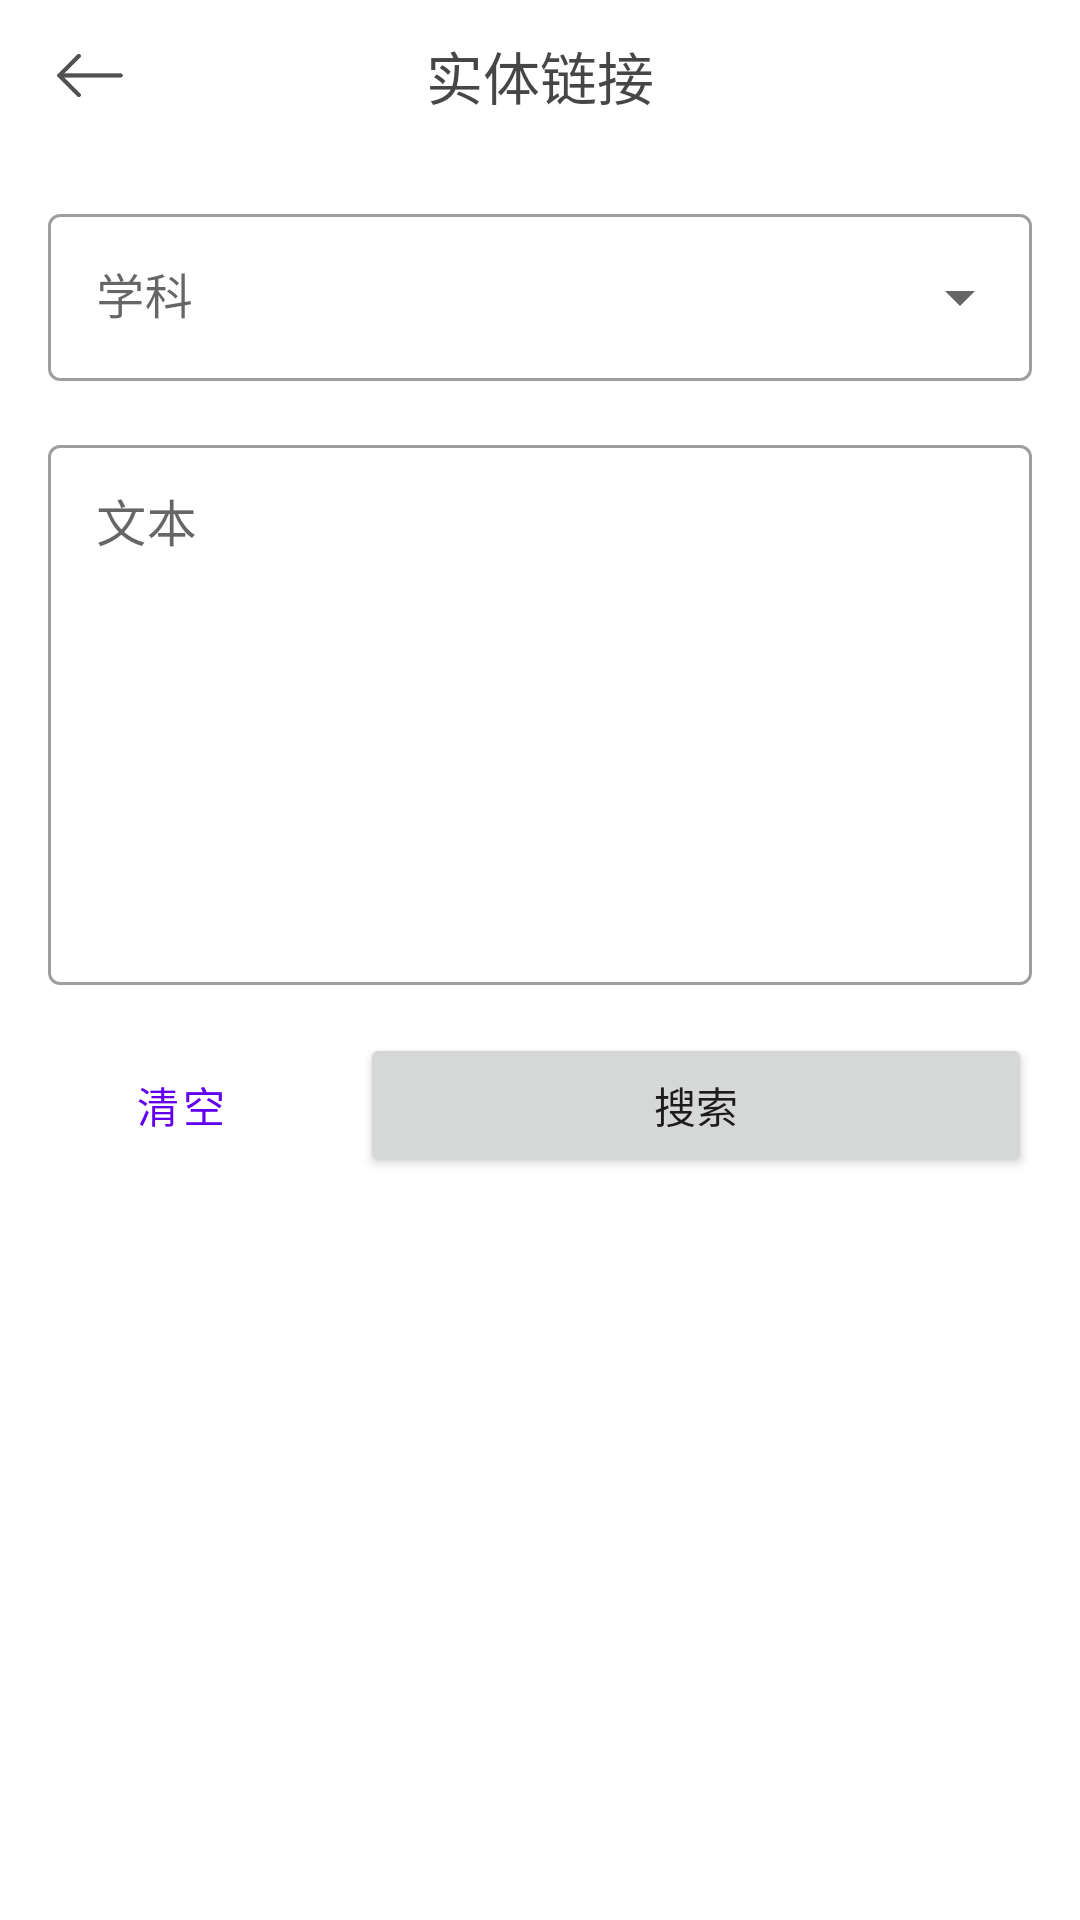

Locate icon controls on the screen. Image size 1080×1920, boxes as rect(x1, y1, x2, y2).
backward arrow: rect(57, 54, 123, 97)
